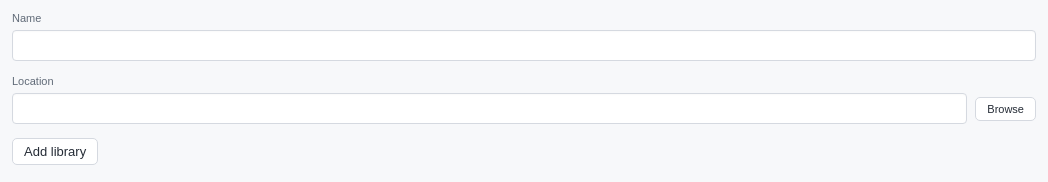
it: AddLibraryForm › opens a folder picker when Browse is clicked and fills the location
The width and height of the screenshot is (1048, 182).
Step 1. Click the button "Browse" → x=1006, y=108, box [975,96,1036,120]
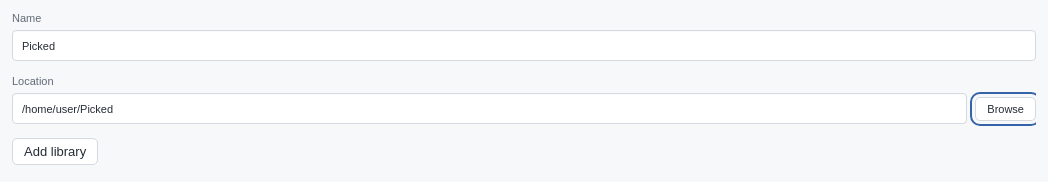
Result: the field labelled "Location Browse" holds "/home/user/Picked" at [12,93,967,124]
